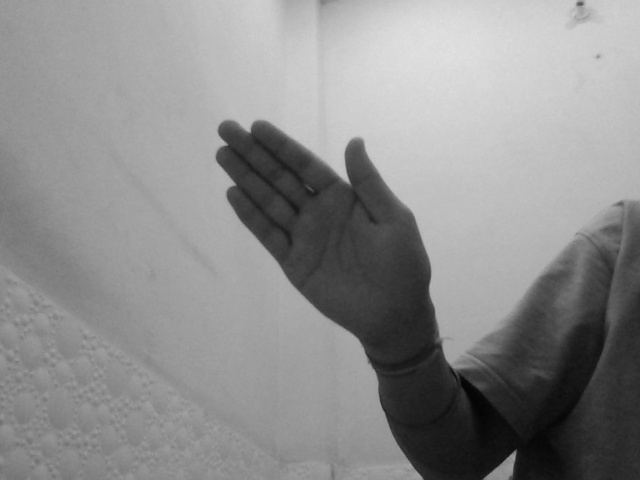Hello: (216, 118, 434, 346)
